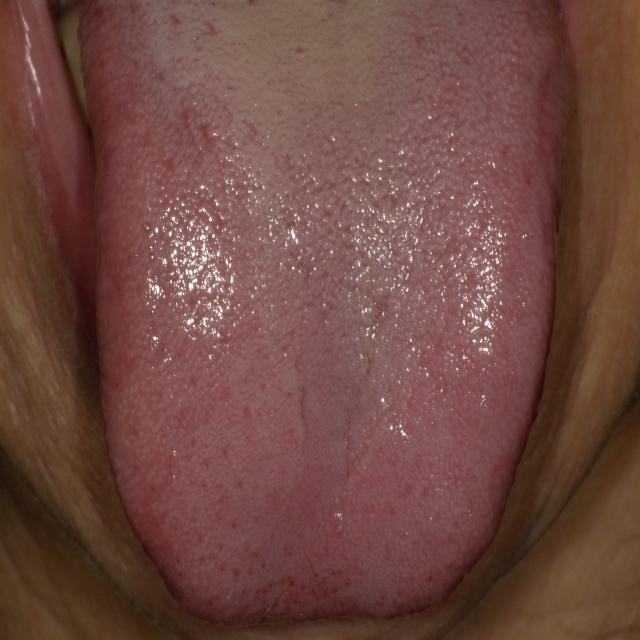hongdianshe: (342, 578, 353, 589), (425, 572, 435, 584), (229, 518, 238, 529)
huangtaishe: (78, 1, 572, 627)
